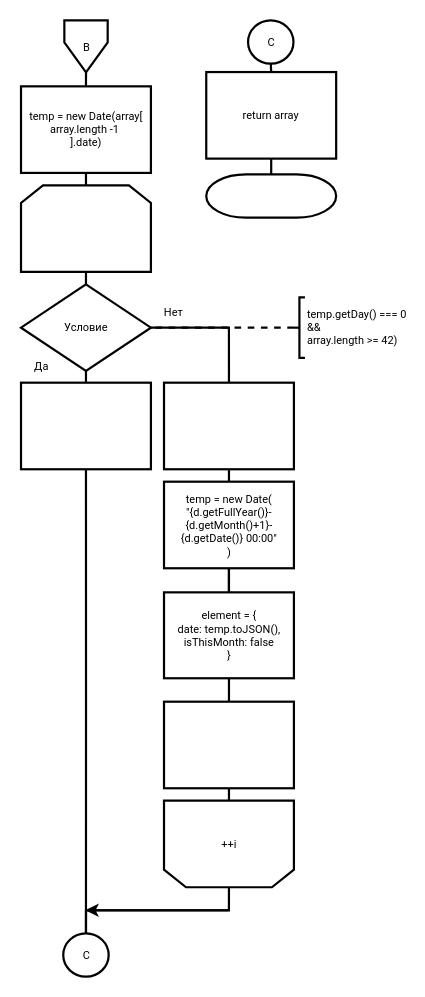
This 425x997 diagram has some shape labels left out. Here are the shapes that lost their labels. From the top down, the centre of each, then its label:
At pixel 271 195: "Конец".
At pixel 85 228: "step = 0 step <= 14".
At pixel 85 425: "break".
At pixel 228 425: "d = new Date(temp.getTime() + 1000 * 60 * 60 * 25)".
At pixel 228 744: "array.push(element)".
